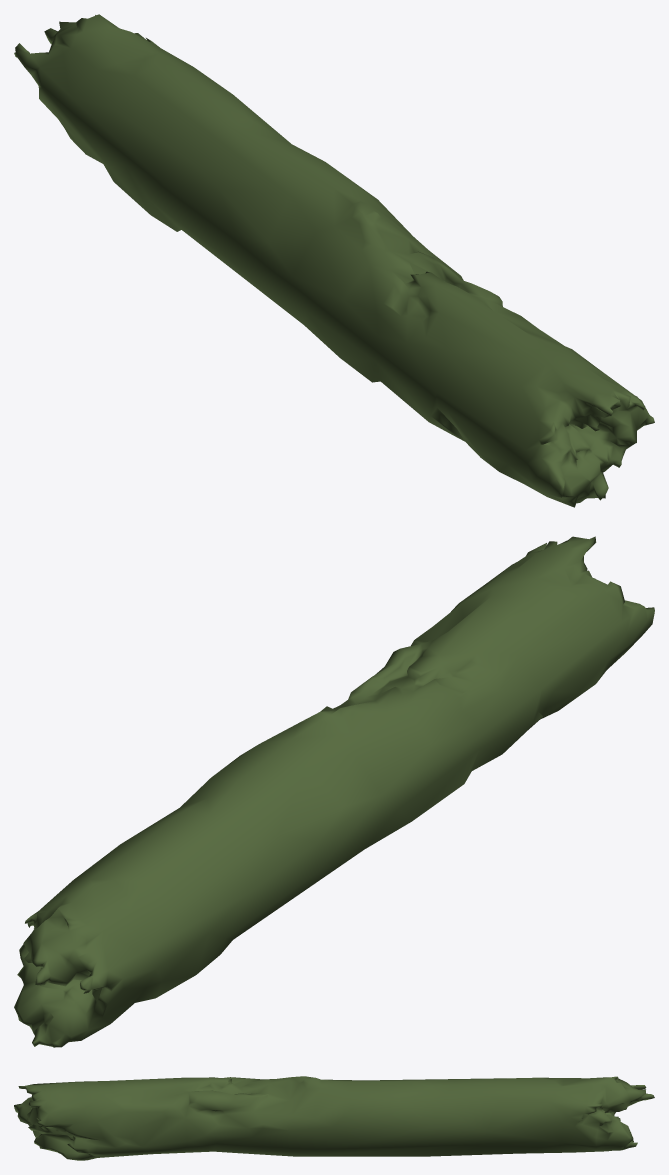
The model's file is SM_Kopru_Kutuk.fbx.
3 renders of one model, top to bottom at view 1: azimuth 30°, elevation 25°; view 2: azimuth 150°, elevation 25°; view 3: azimuth 270°, elevation 25°, orthographic. The views are drawn at different scales.
Visible parts, largest first — view 1: Obj_Kopru_Kutuk1; view 2: Obj_Kopru_Kutuk1; view 3: Obj_Kopru_Kutuk1.
Boxes of the visible parts, x1,y1,x2,y2 form: Obj_Kopru_Kutuk1: (14, 14, 654, 507); Obj_Kopru_Kutuk1: (14, 536, 654, 1047); Obj_Kopru_Kutuk1: (14, 1076, 654, 1160).
Size of the model in its own units: 98.61 by 102 by 753.
